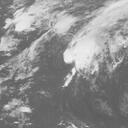cyclone: (63, 35, 104, 74)
